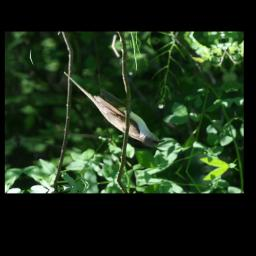Cuckoo: (62, 59, 166, 158)
